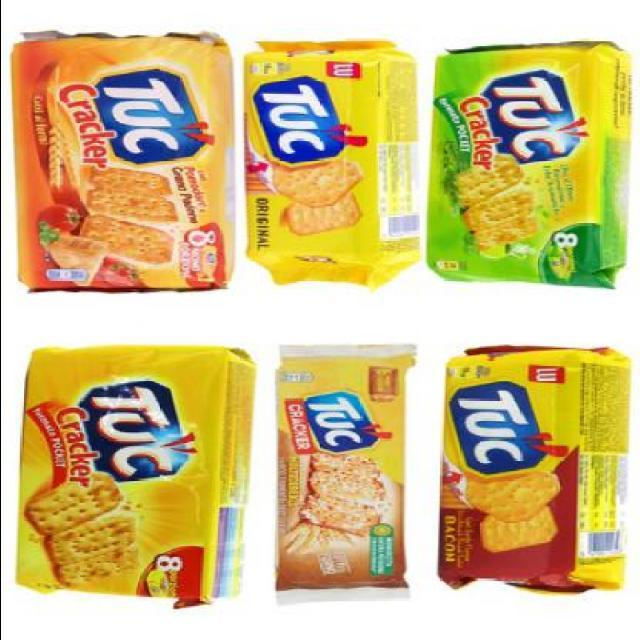Cracker: (10, 340, 258, 608), (11, 31, 234, 297), (423, 28, 639, 288), (430, 334, 634, 600), (242, 31, 418, 291), (273, 336, 422, 610)
